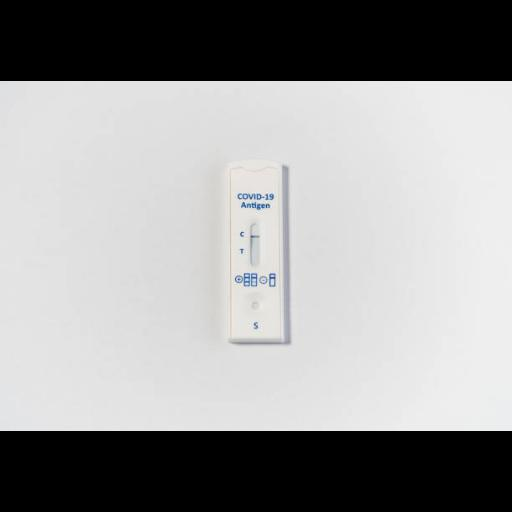Neg: (228, 158, 284, 338)
